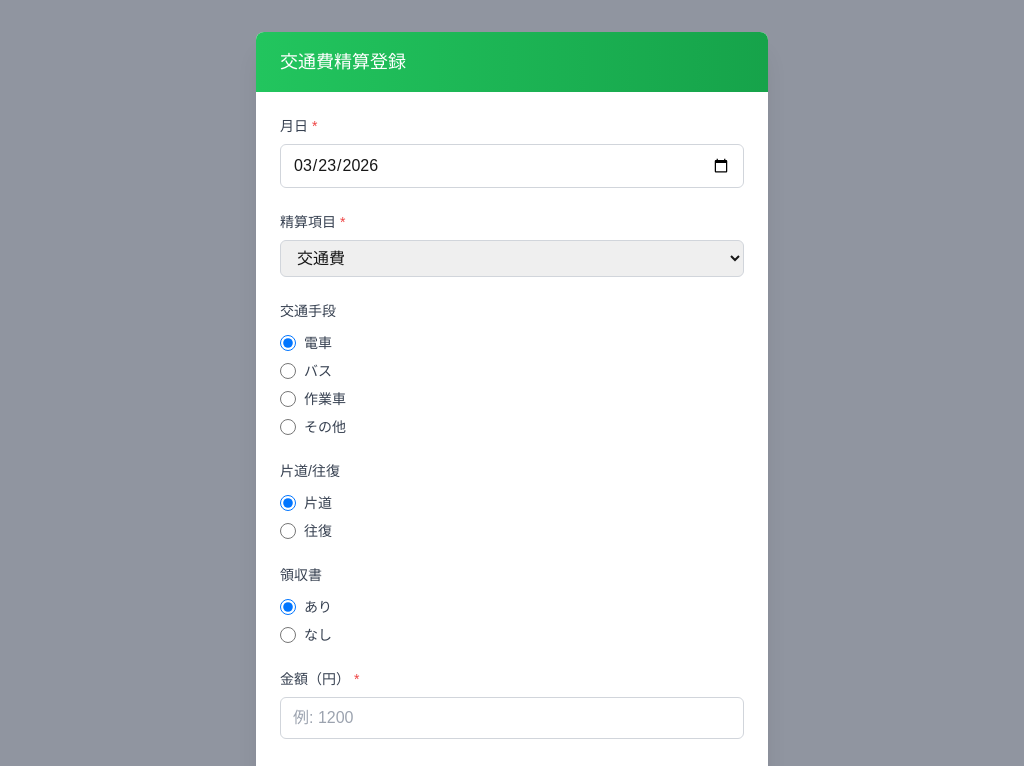
Test case: ExpenseModal — バリデーション › 空のまま送信するとエラーメッセージが表示される
Note: 日付・金額・内容を空にした状態で送信
Clear the date field labelled "月日 *": point(512, 166) [280,144,744,188]
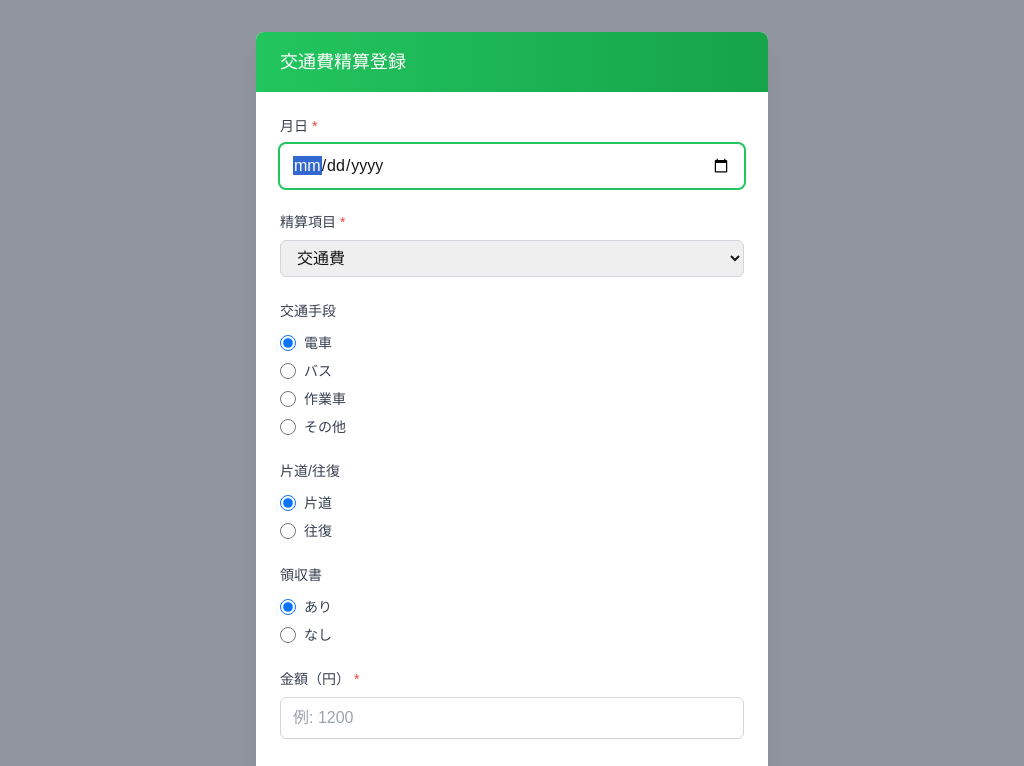
Clear the number field labelled "金額（円） *": point(512, 718) [280,697,744,739]
(page scrolled)
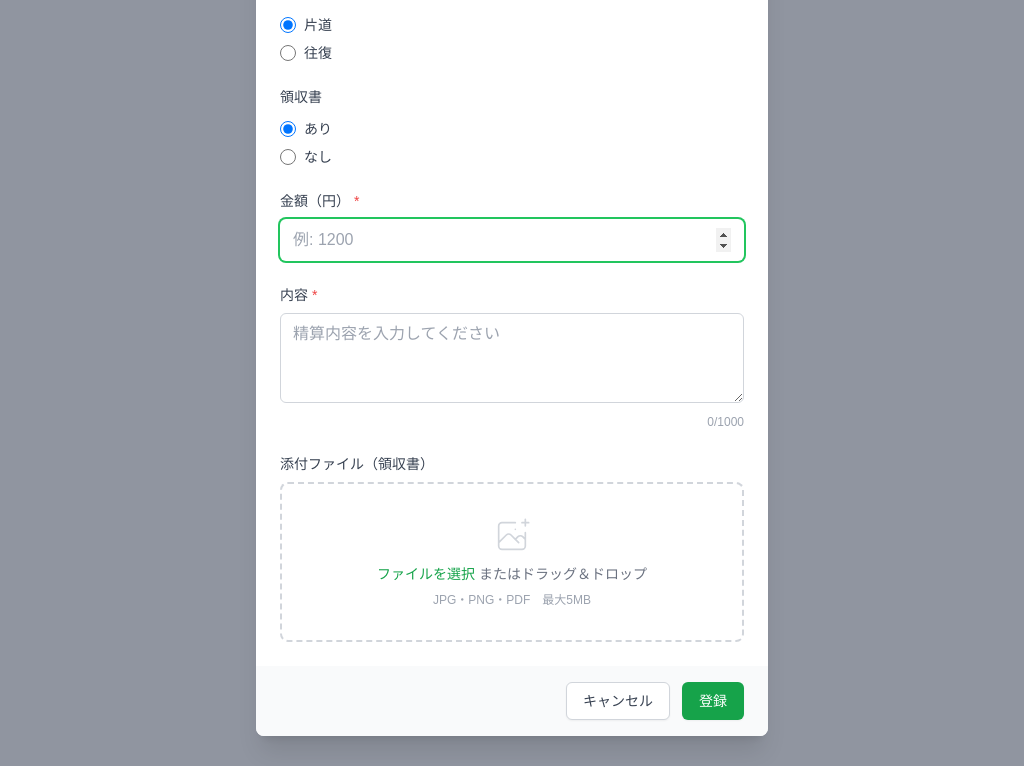
Click the button "登録": point(713, 701) [682,682,744,720]
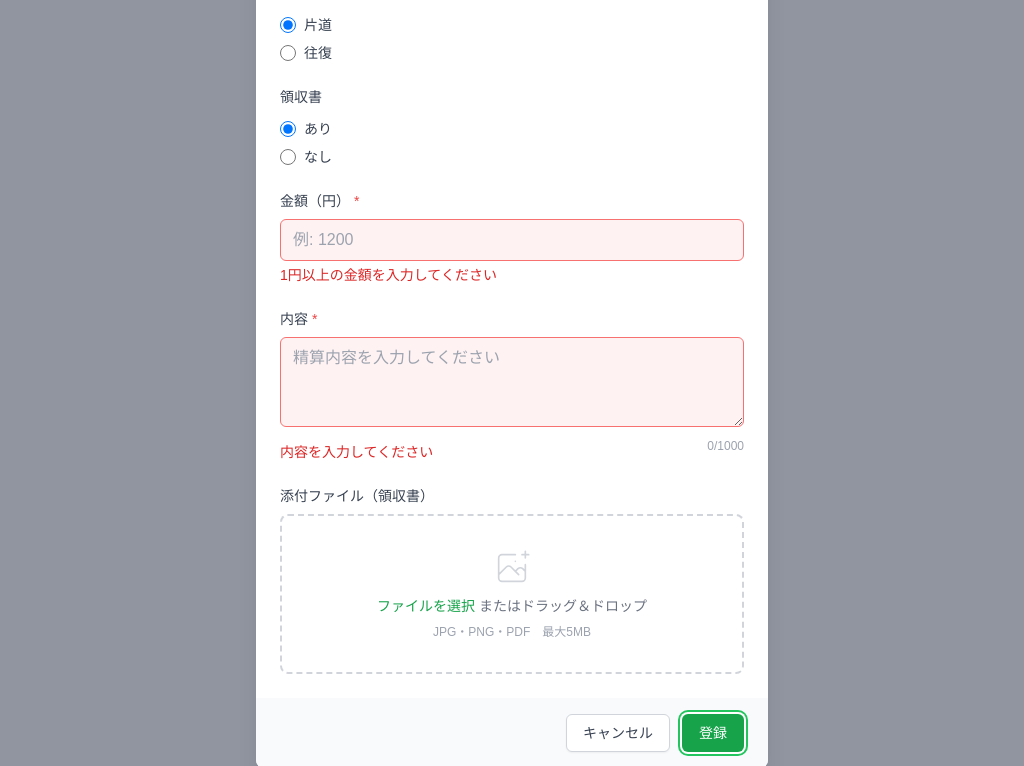
Result: the text "1円以上の金額を入力してください" is shown at [280,267,497,283]
Result: the text "内容を入力してください" is shown at [280,442,433,462]
